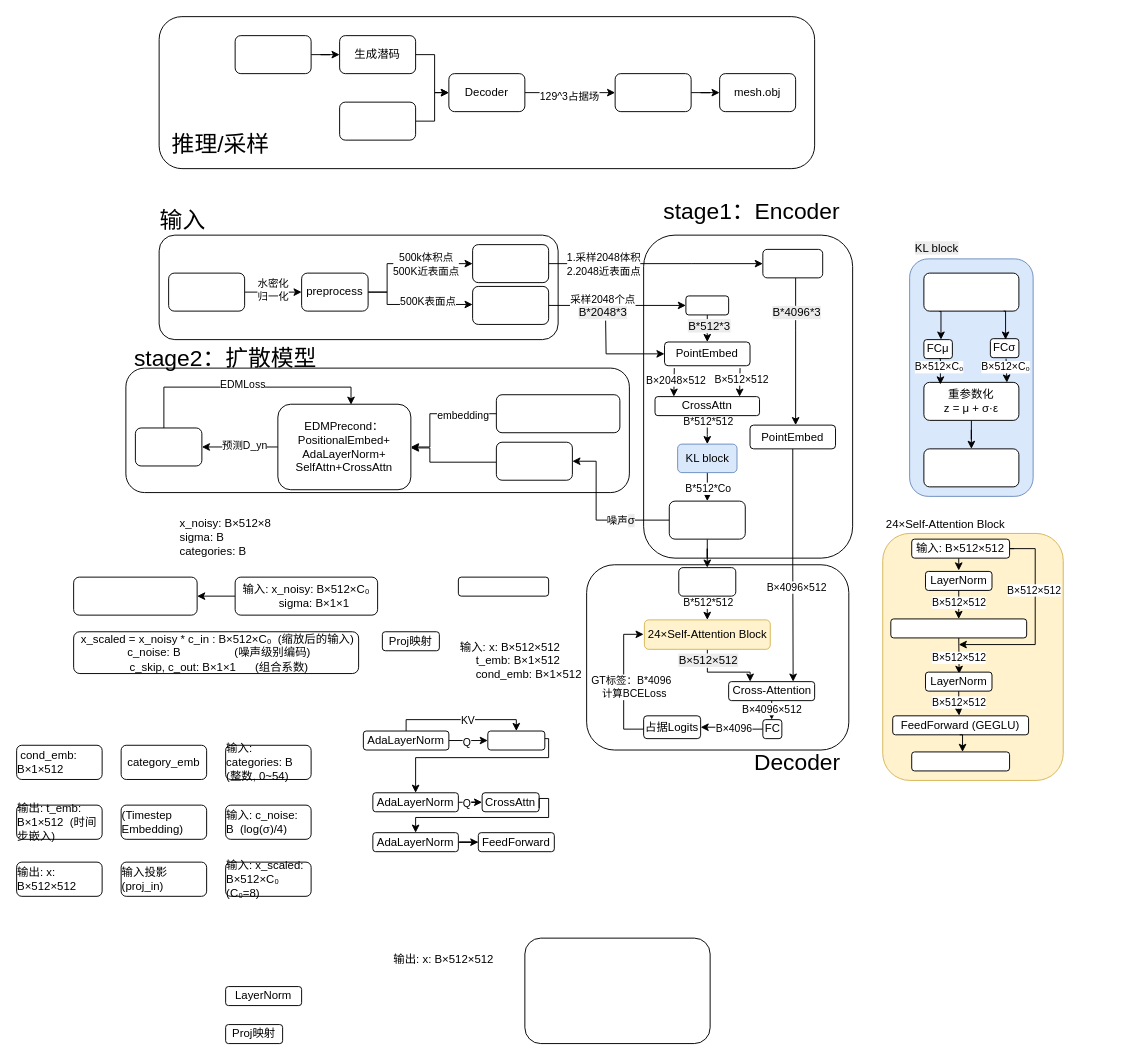
This 1126x1060 diagram has some shape labels left out. The shapes that lost their labels are listed below. From the top down, each one's centre as x and y in pixels, then its label:
At point (272, 54): "随机噪声".
At point (652, 92): "Marching Cubes".
At point (377, 120): "均匀网络129^3".
At point (510, 263): "占据查询点集".
At point (792, 263): "查询点： B*4096*3".
At point (206, 291): "GT三角网络".
At point (707, 305): "FPS".
At point (971, 291): "输入： B*512*512".
At point (557, 413): "条件信息（可选）： 类别、文本、图像、点云".
At point (168, 446): "去噪后潜码".
At point (533, 460): "B*512*Co+噪声".
At point (971, 467): "输出： B×512×C₀".
At point (706, 519): "潜码z B×512×C₀".
At point (135, 595): "EDM Preconditioning".
At point (503, 586): "PositionalEmbed".
At point (707, 581): "projection 映射".
At point (958, 628): "Multi-Head Self-Attention".
At point (516, 740): "SelfAttn".
At point (960, 761): "输出: B×512×512".
